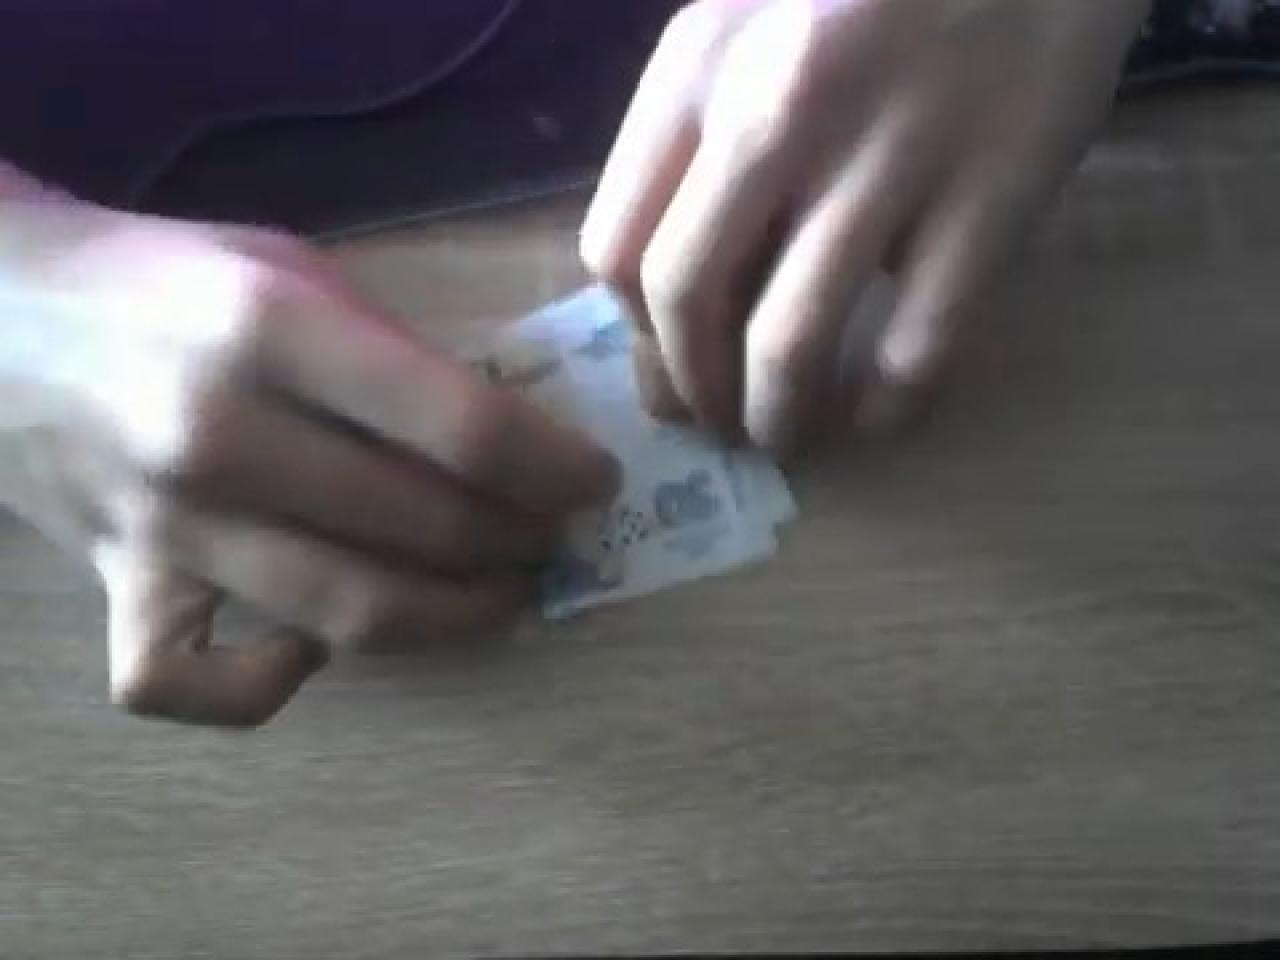20leva: (462, 277, 802, 624)
